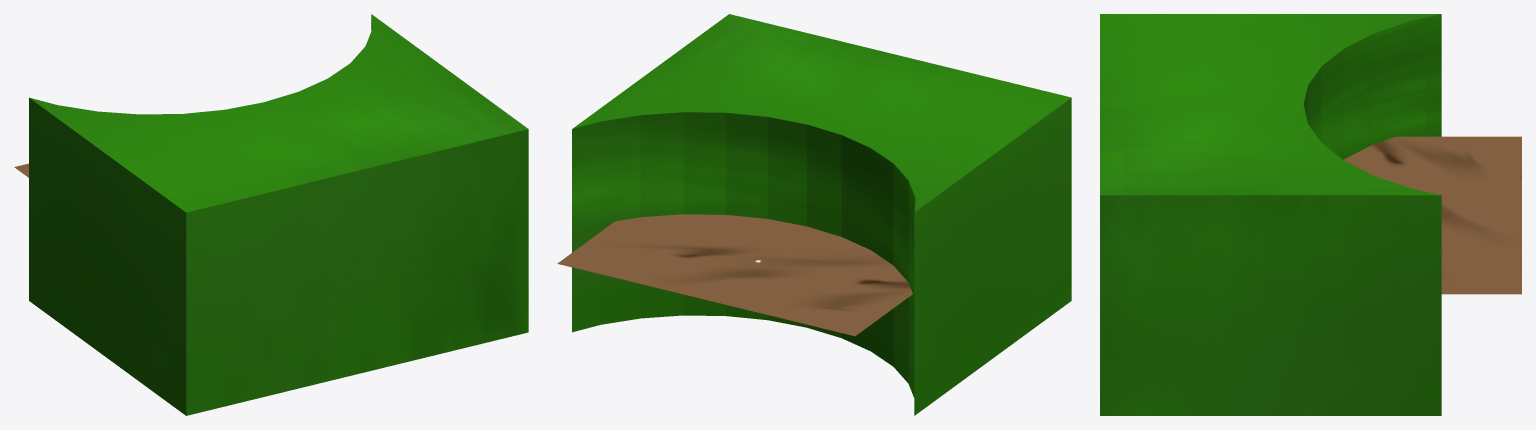
The model's file is stage.obj.
The picture shows the model from 3 angles, left to right: view 1: azimuth 30°, elevation 25°; view 2: azimuth 150°, elevation 25°; view 3: azimuth 270°, elevation 25°; orthographic projection. The views are drawn at different scales.
Parts seen in each view (by area): view 1: 立方体; view 2: 立方体; view 3: 立方体.
Boxes of the visible parts, x1,y1,x2,y2 form: 立方体: (14, 14, 528, 415); 立方体: (557, 14, 1071, 415); 立方体: (1100, 14, 1521, 415).
Bounding box in the file's own units: 176 × 99.75 × 173.
Materials: 1 (1 with a texture image).
